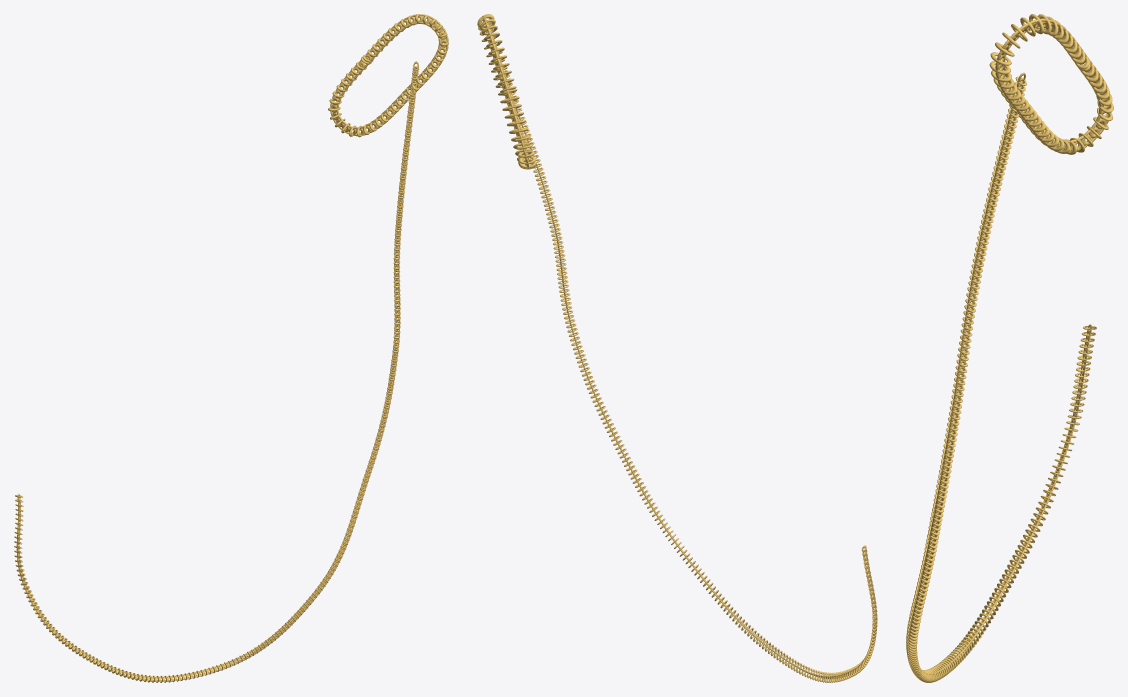
File: jewel-8.glb
3 views of the same model, side by side, from view 1: azimuth 30°, elevation 25°; view 2: azimuth 150°, elevation 25°; view 3: azimuth 270°, elevation 25° (orthographic). The views are drawn at different scales.
Parts seen in each view (by area): view 1: Chain_Main, Chain_Loop; view 2: Chain_Main, Chain_Loop; view 3: Chain_Main, Chain_Loop.
Boxes of the visible parts, <box> form: Chain_Main: <box>14,61,418,682</box>; Chain_Loop: <box>328,14,448,137</box>; Chain_Main: <box>497,66,877,682</box>; Chain_Loop: <box>477,14,536,169</box>; Chain_Main: <box>906,72,1096,682</box>; Chain_Loop: <box>989,14,1113,154</box>.
Bounding box in the file's own units: 0.1788 × 0.245 × 0.0552.
